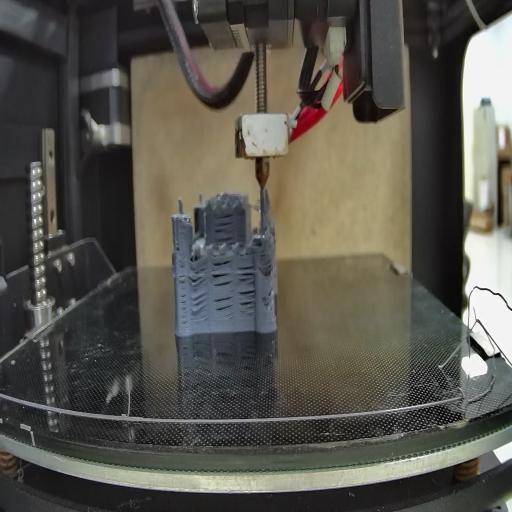cracks: (211, 212, 236, 243), (212, 259, 233, 289), (179, 264, 188, 328), (212, 292, 234, 316), (189, 260, 208, 286), (238, 288, 256, 313), (237, 262, 257, 284), (191, 292, 207, 318), (260, 254, 276, 276), (264, 285, 273, 312), (173, 239, 182, 256)
